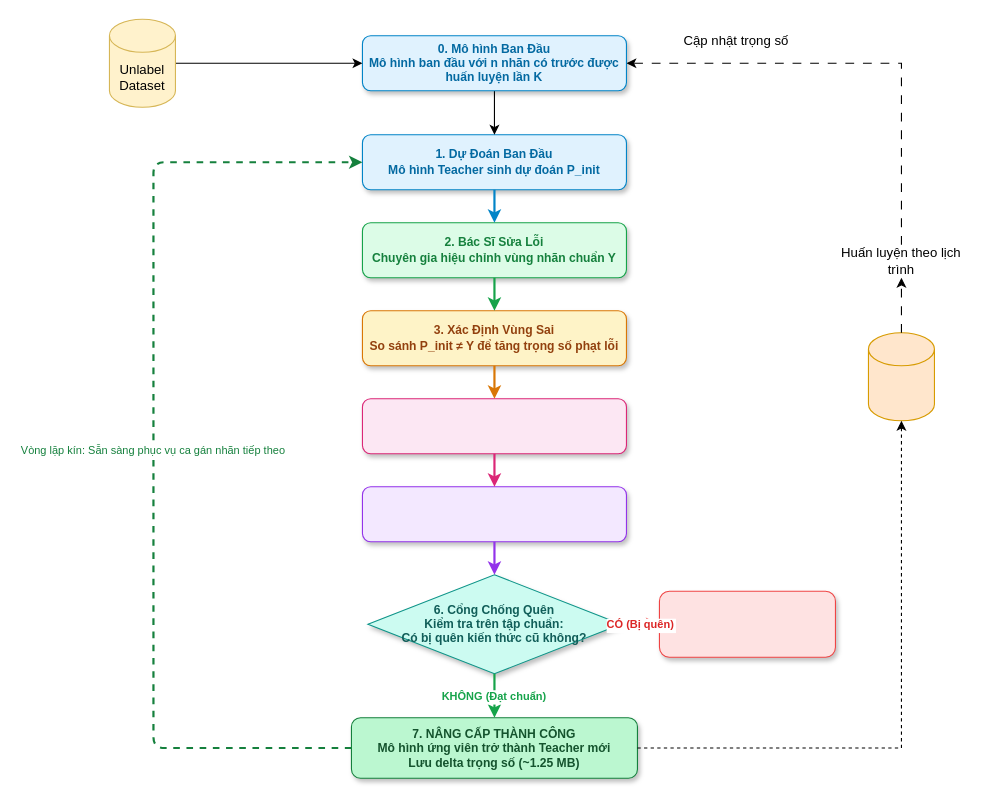
Some shapes in this 986 by 805 pixel diagram are drawn without their labels. Each missing label, with the centre of its shape:
"4. Student Học Thích Ứng Chỉ mở tầng đầu ra + Ôn lại mẫu cũ (Replay)" belongs at pixel 495 427.
"5. Hòa Trộn An Toàn (EMA) Hòa trộn 65% Teacher + 35% Student" belongs at pixel 495 515.
"HỦY ỨNG VIÊN Giữ nguyên Teacher cũ (Bảo toàn an toàn)" belongs at pixel 748 625.
"Labeled Dataset" belongs at pixel 900 376.
